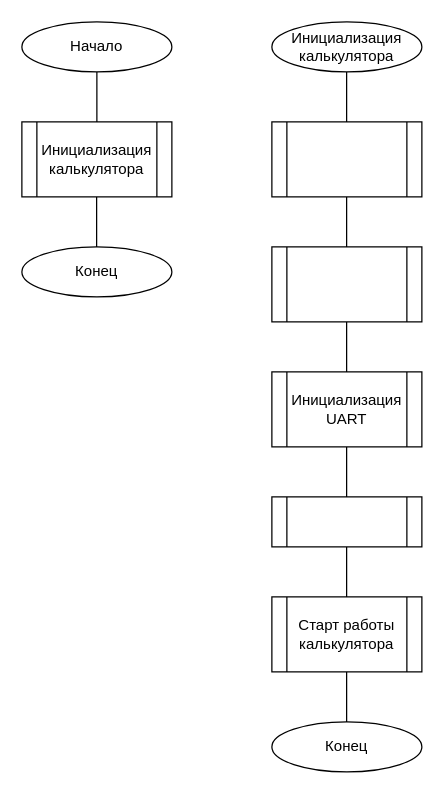
The diagram is 444 pixels wide and 794 high, and some of its shapes have lost their labels. Here are the shapes that lost their labels. From the top down, the box of each, then its label:
(271, 121, 422, 197): Инициализация дисплея
(271, 246, 422, 322): Инициализация клавиатуры
(271, 496, 422, 547): Сброс
